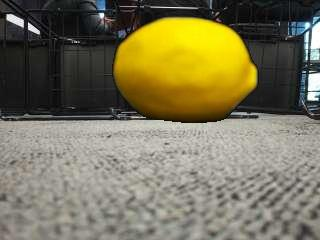lemon: (114, 17, 257, 120)
